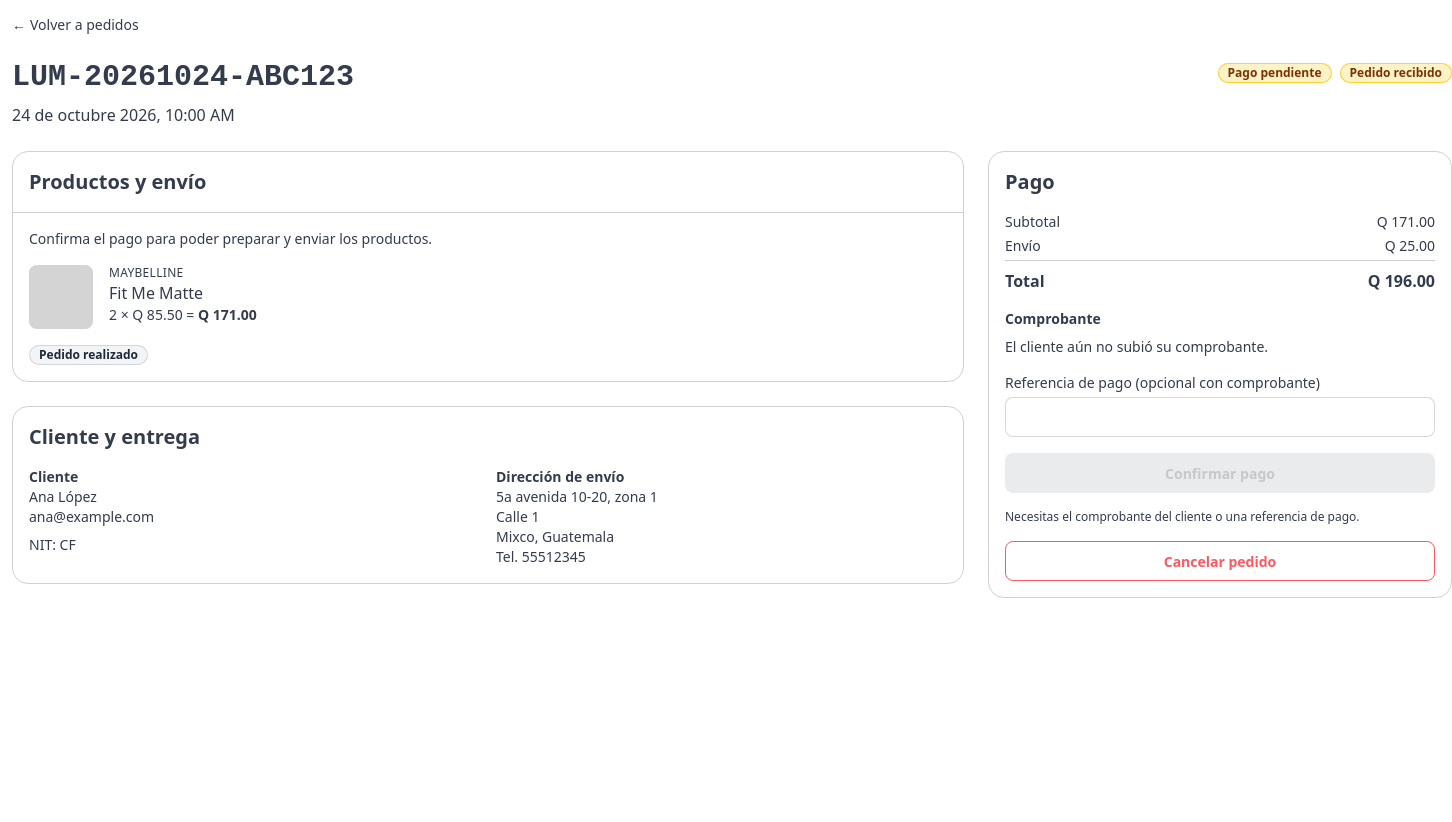
Test: OrderAdminPageComponent (detalle administrativo) › no permite confirmar el pago sin comprobante ni referencia
Expected: the button "Confirmar pago" is disabled, [1005, 453, 1435, 493]
In the field labelled "Referencia de pago (opcional con comprobante)": [1220, 417] box [1005, 397, 1435, 437], type "DEP-998877"
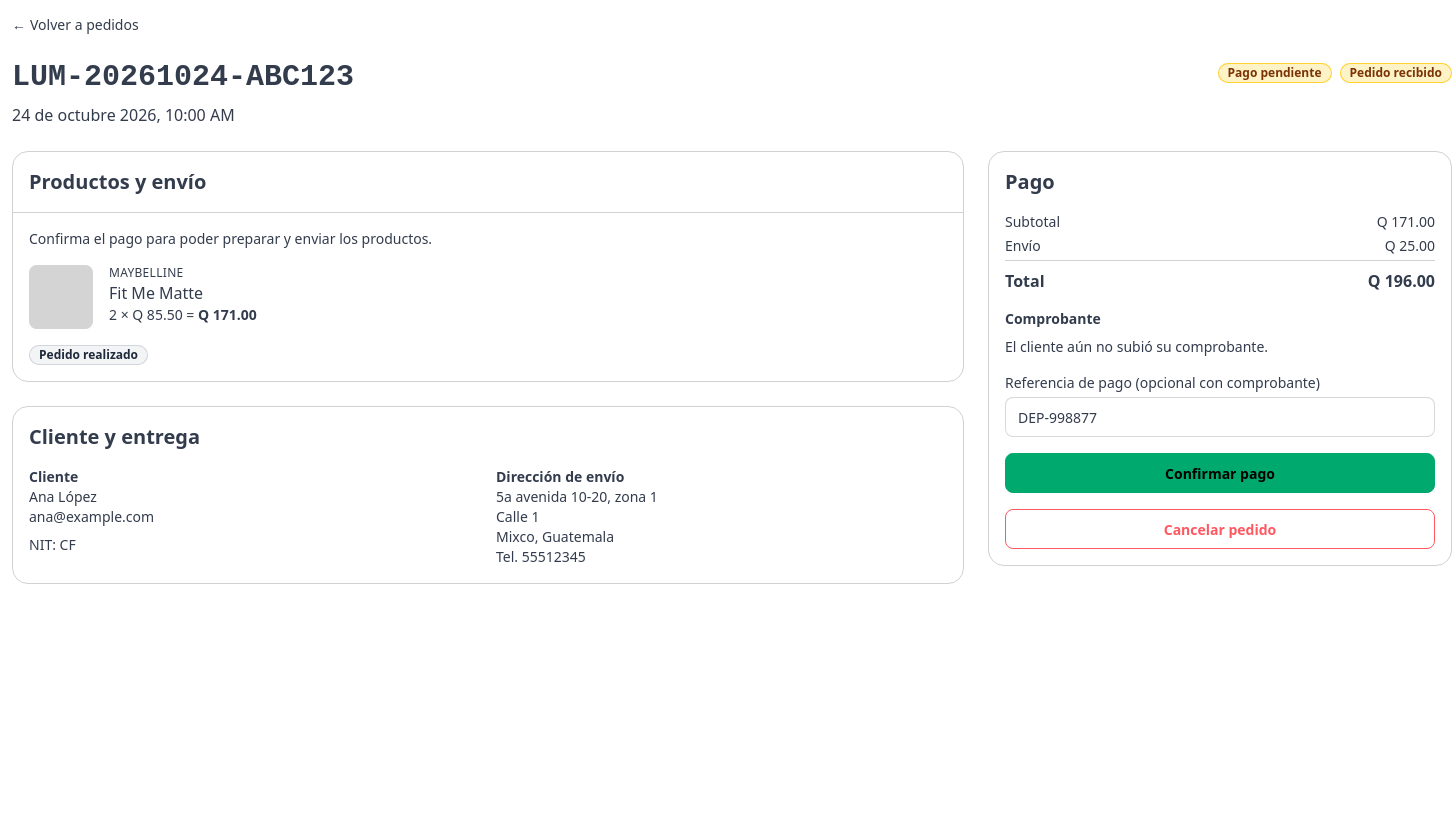
Result: the button "Confirmar pago" is enabled at [1005, 453, 1435, 493]
